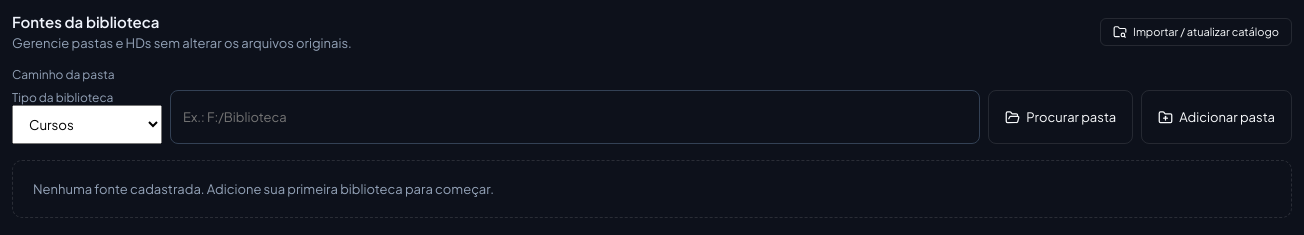
Test case: LibrarySourcesPanel — seleção de pasta pelo SO (desktop) › abre o seletor de diretório e preenche o caminho escolhido
What coordinates should you click on to do the following:
click the button "Procurar pasta"
I would click on:
 (1061, 117)
Its box is [988,90,1133,144].
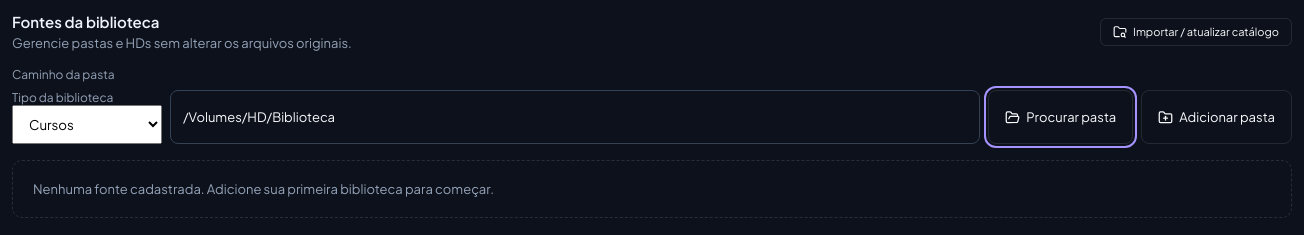
expect the field labelled "Caminho da pasta" holds "/Volumes/HD/Biblioteca": met, box [170,90,980,144]
